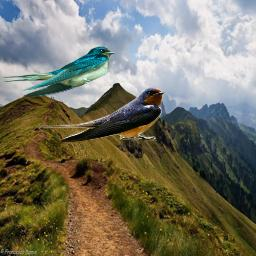Swallow: (33, 86, 165, 143), (0, 46, 115, 98)
